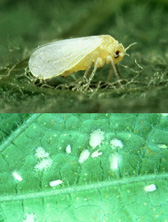whitefly: (29, 33, 138, 97)
